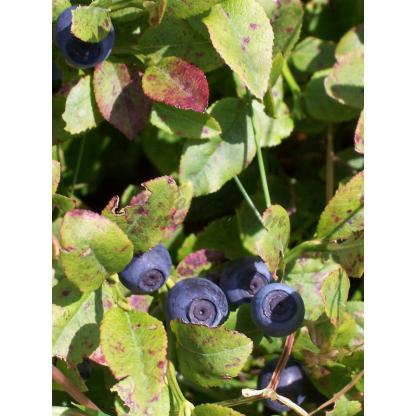blueberry leaf: (177, 91, 259, 204), (97, 303, 171, 413), (200, 3, 279, 105), (55, 205, 126, 296), (163, 318, 254, 387), (106, 172, 179, 254), (93, 53, 155, 139), (138, 53, 210, 116), (314, 166, 364, 251)
